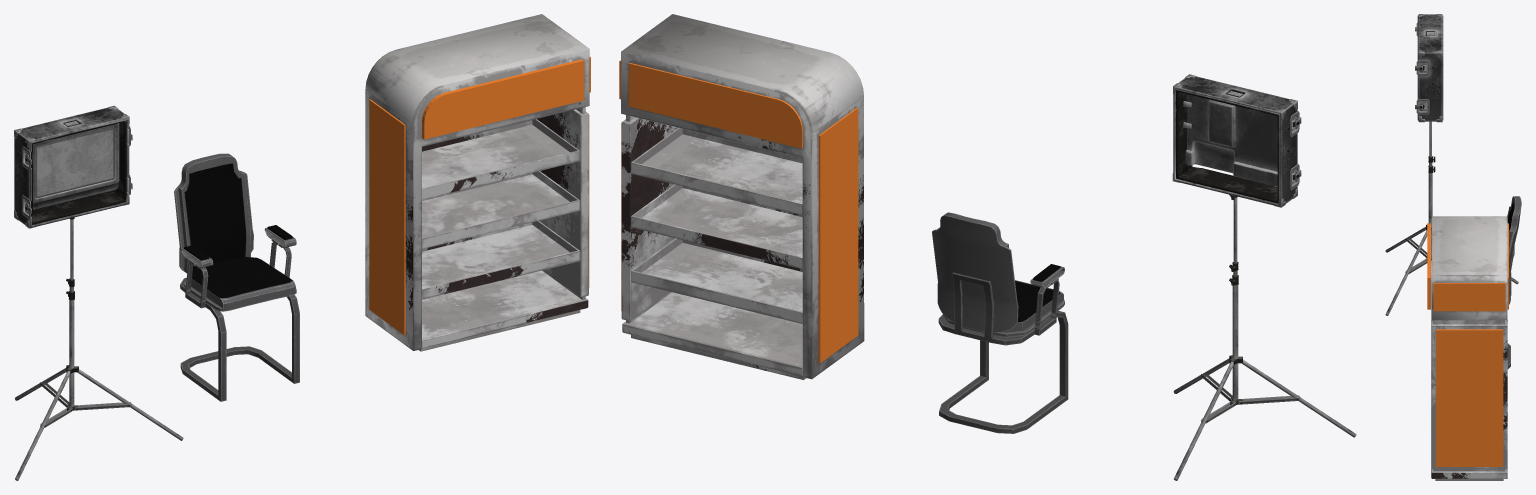
File: Sci-object_Part2.fbx
The picture shows the model from 3 angles, left to right: view 1: azimuth 30°, elevation 25°; view 2: azimuth 150°, elevation 25°; view 3: azimuth 270°, elevation 25°; orthographic projection. The views are drawn at different scales.
Parts seen in each view (by area): view 1: Obj_BookShelf, Obj_Chair, Obj_display_monitor_stand; view 2: Obj_BookShelf, Obj_display_monitor_stand, Obj_Chair; view 3: Obj_BookShelf, Obj_display_monitor_stand, Obj_Chair.
Boxes of the visible parts, box(x1,y1,x2,y2) form: Obj_BookShelf: box(365, 14, 590, 351); Obj_Chair: box(174, 153, 299, 401); Obj_display_monitor_stand: box(14, 105, 183, 480); Obj_BookShelf: box(619, 14, 864, 379); Obj_display_monitor_stand: box(1172, 74, 1356, 480); Obj_Chair: box(932, 212, 1068, 433); Obj_BookShelf: box(1427, 216, 1508, 480); Obj_display_monitor_stand: box(1385, 14, 1518, 315); Obj_Chair: box(1507, 196, 1521, 369).
Size of the model in its own units: 362 by 182 by 89.18.
Materials: 4 (4 with a texture image).
